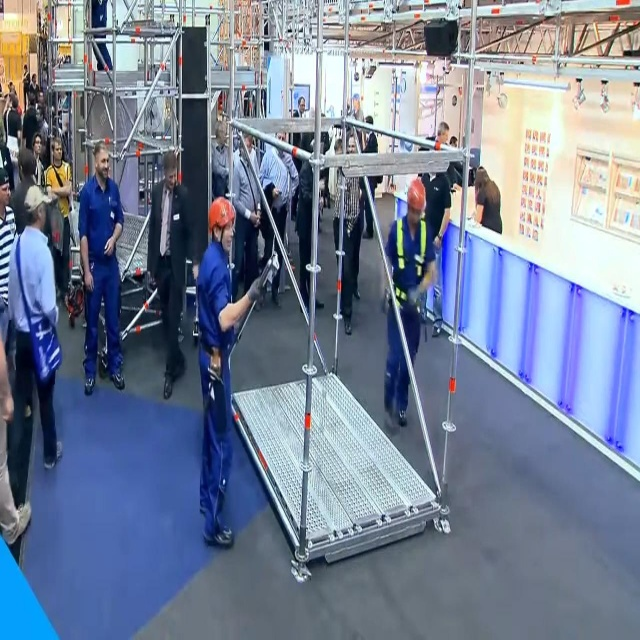Arnes_seguridad: (388, 209, 427, 322)
